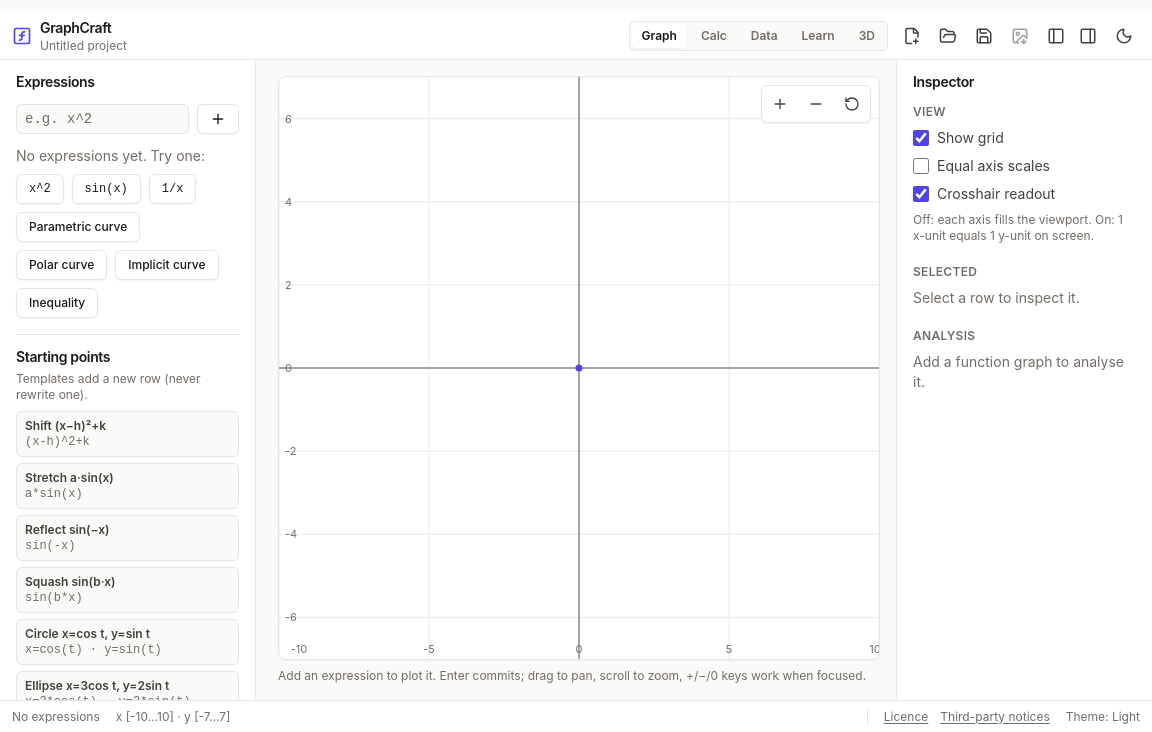
Test: analysis integration › rejects a non-finite tangent position without fabricating a line
The width and height of the screenshot is (1152, 732).
Type "x^2" into the field named "New expression".
click(102, 119); type("x^2")  # box [16, 104, 189, 134]
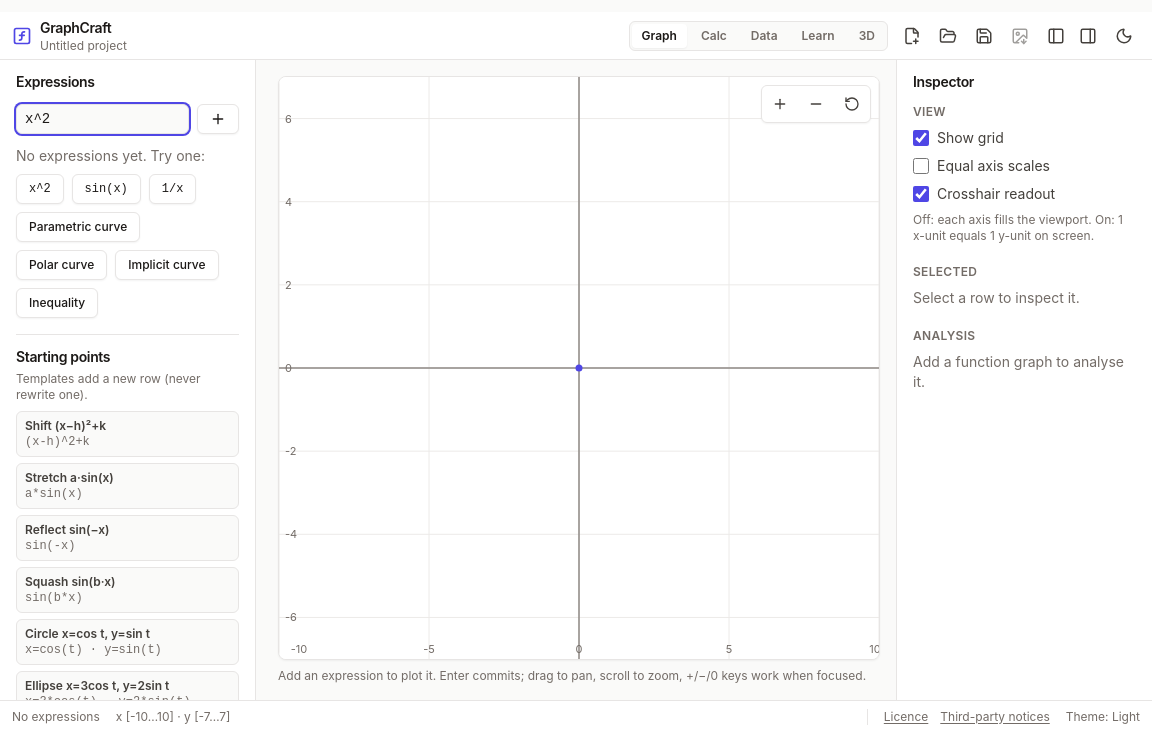
Press Enter
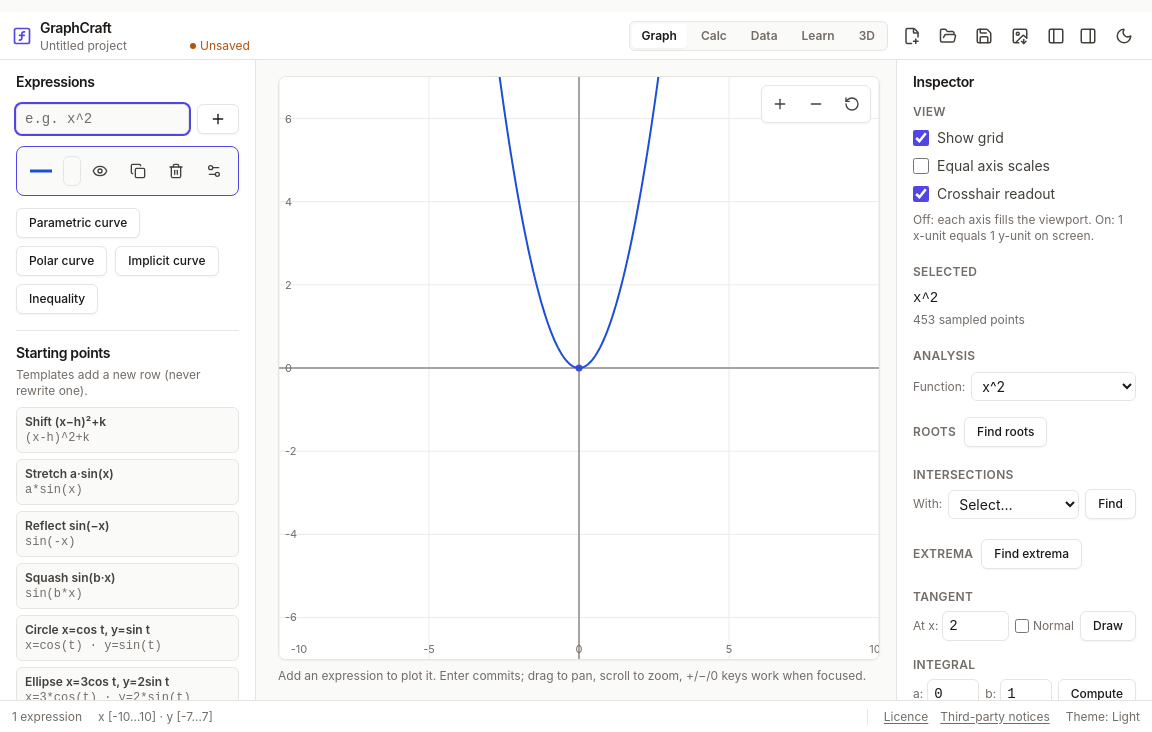
Replace the text in the field named "Tangent point x" with "abc" at (976, 626), box [942, 611, 1009, 641]
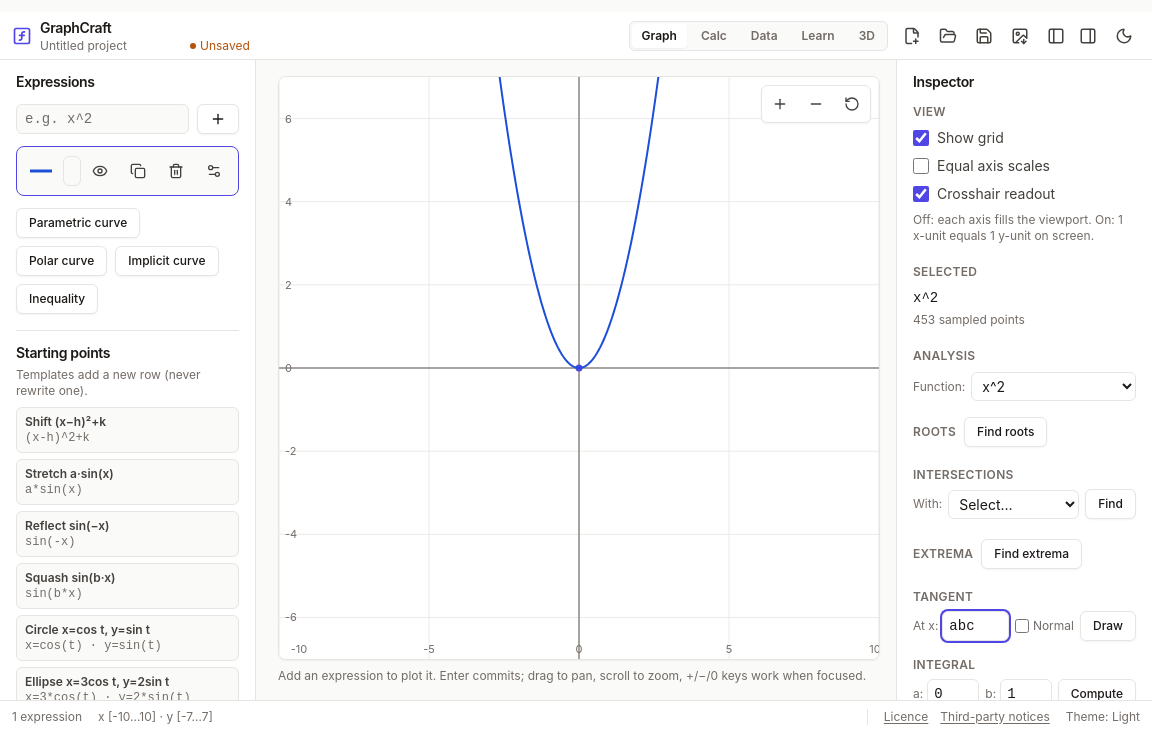
Click the button "Draw".
click(1108, 626)  # box [1080, 611, 1136, 641]
(page scrolled)
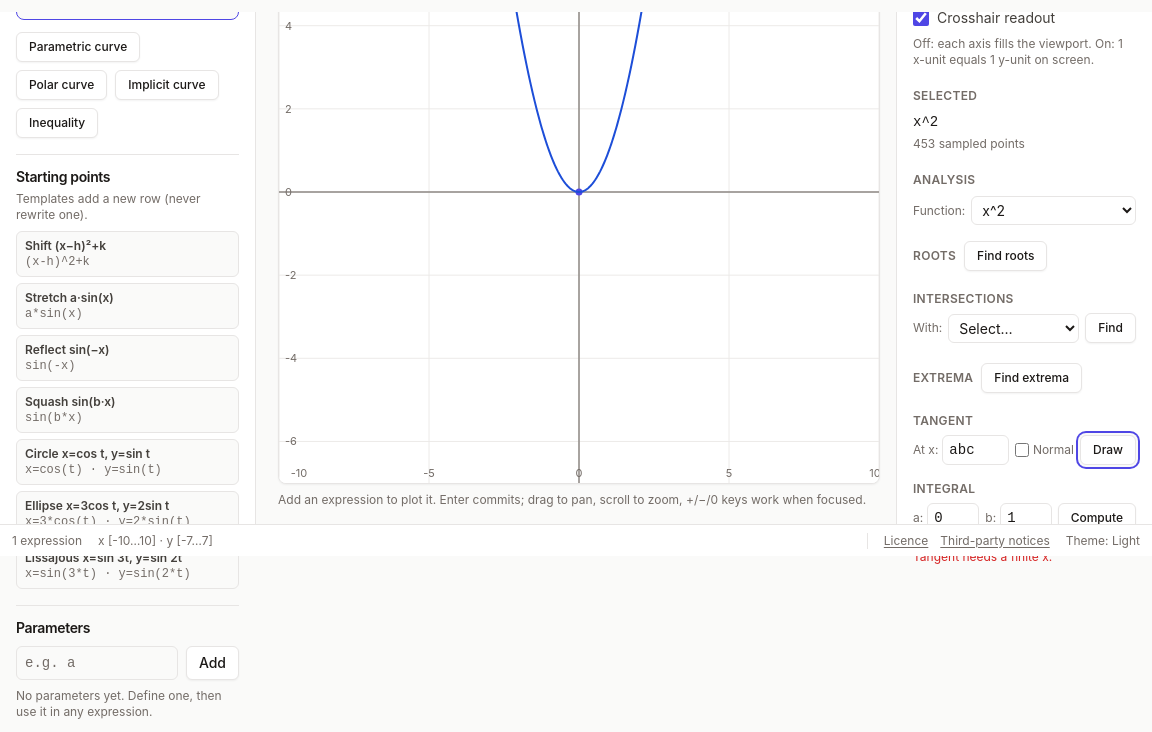
Now the message "Tangent needs a finite x." is shown, box [913, 549, 1052, 564]
